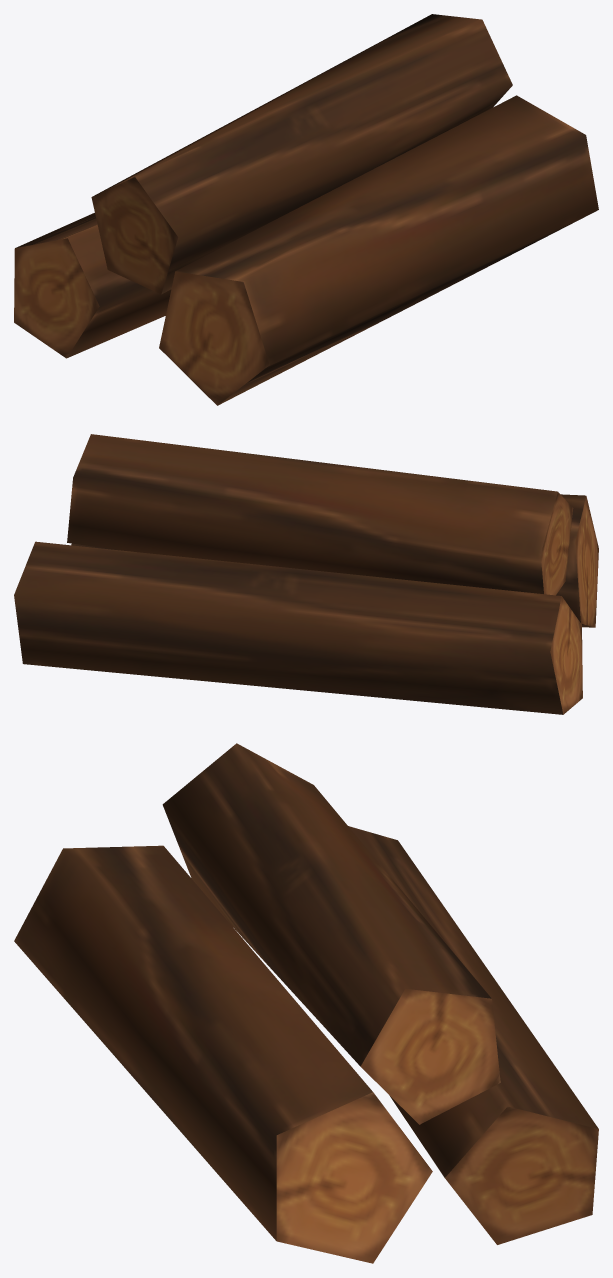
Rendered from ELF_wood.FBX.
3 renders of one model, top to bottom at view 1: azimuth 30°, elevation 25°; view 2: azimuth 150°, elevation 25°; view 3: azimuth 270°, elevation 25°, orthographic. The views are drawn at different scales.
Visible parts, largest first — view 1: WK_Xtra_wood; view 2: WK_Xtra_wood; view 3: WK_Xtra_wood.
Boxes of the visible parts, box(x1,y1,x2,y2) form: WK_Xtra_wood: box(14, 14, 598, 405); WK_Xtra_wood: box(14, 434, 598, 714); WK_Xtra_wood: box(14, 743, 598, 1263).
Bounding box in the file's own units: 35.27 × 12.46 × 26.14.
